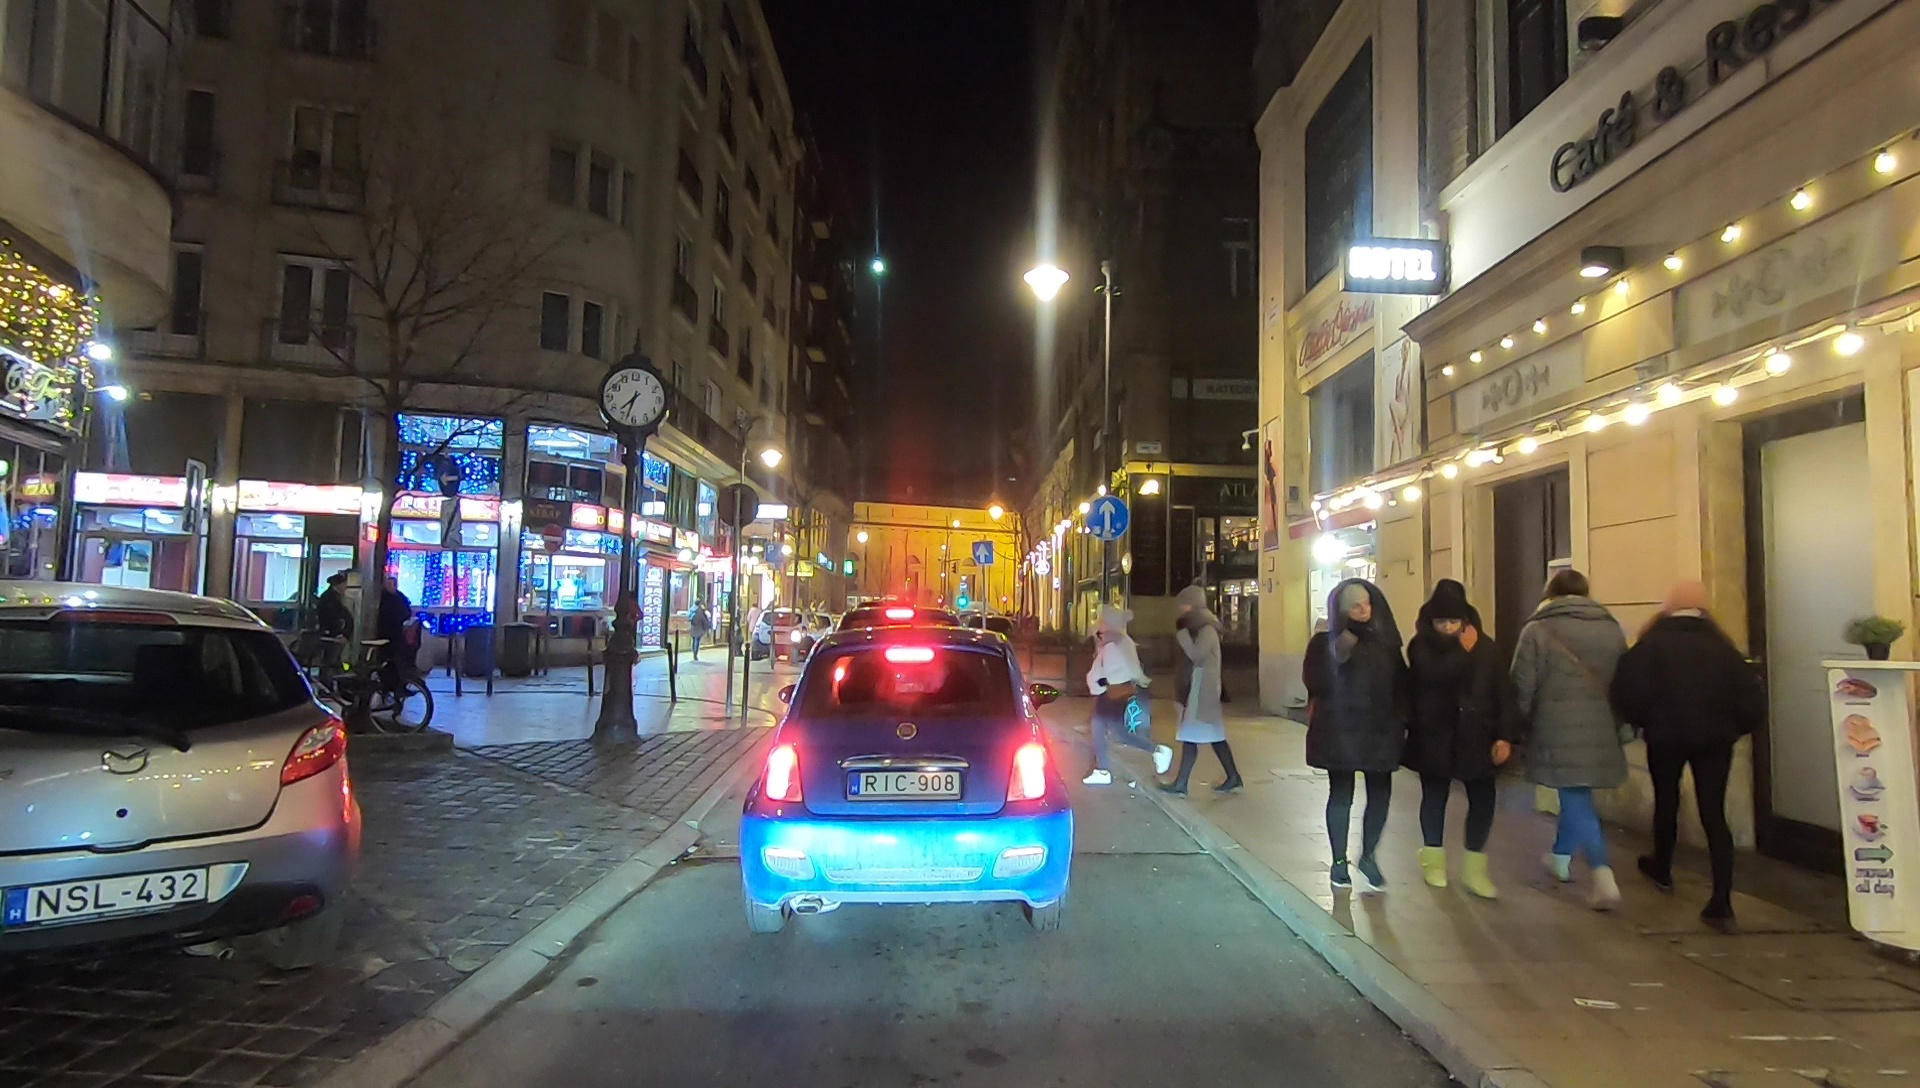person: (1636, 561, 1745, 926), (1523, 560, 1626, 911), (1304, 573, 1402, 900), (1410, 565, 1499, 910), (1171, 574, 1249, 799), (1080, 597, 1167, 787), (312, 578, 356, 695), (371, 571, 408, 700), (691, 604, 715, 667)
